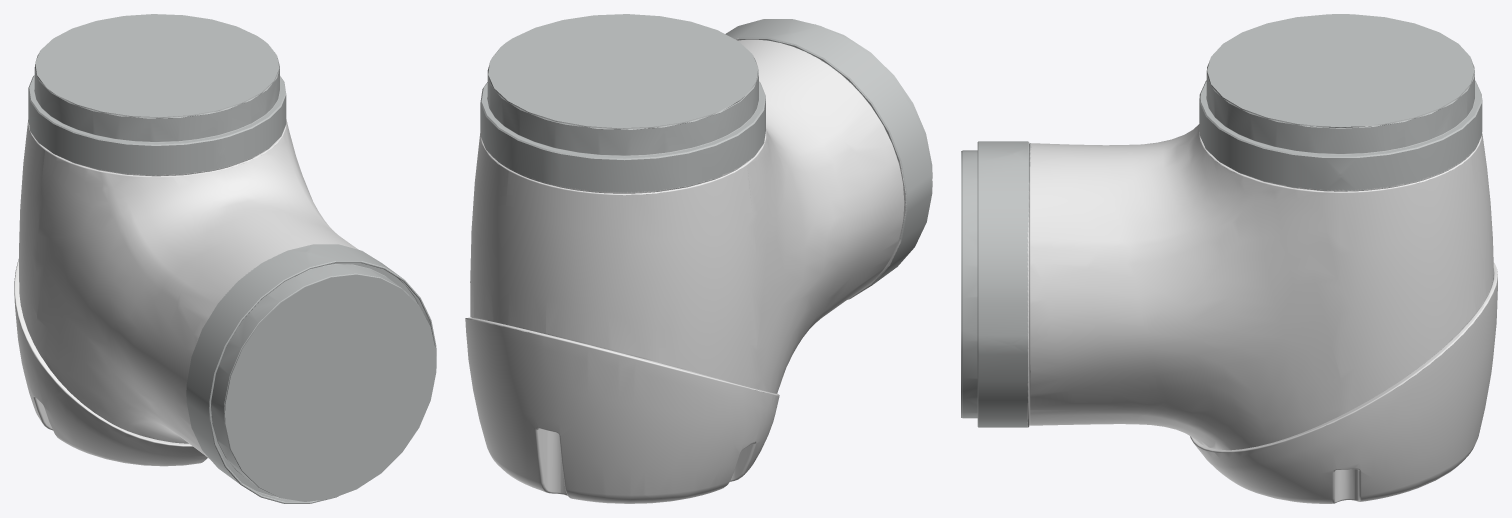
Rendered from Link3_body.glb.
3 views of the same model, side by side, from view 1: azimuth 30°, elevation 25°; view 2: azimuth 150°, elevation 25°; view 3: azimuth 270°, elevation 25° (orthographic). The views are drawn at different scales.
Visible parts, largest first — view 1: Link3_body.STL; view 2: Link3_body.STL; view 3: Link3_body.STL.
Part boxes in pixels (<box>): Link3_body.STL: <box>14,14,436,503</box>; Link3_body.STL: <box>465,14,932,503</box>; Link3_body.STL: <box>961,14,1497,503</box>.
Bounding box in the file's own units: 0.1292 × 0.1796 × 0.2241.
Materials: 1 (1 with a texture image).
